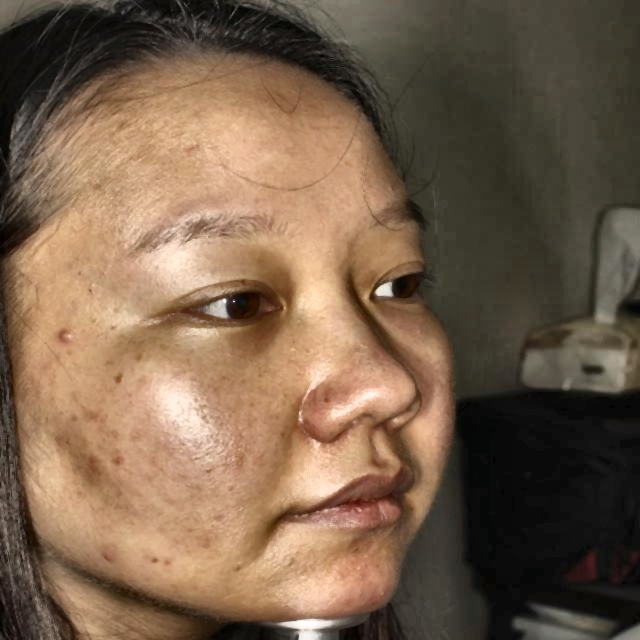pustule: (98, 540, 125, 584), (76, 403, 111, 428), (86, 446, 109, 479), (51, 320, 74, 347), (158, 550, 178, 576), (115, 442, 132, 472), (369, 584, 388, 607), (349, 557, 366, 574)
